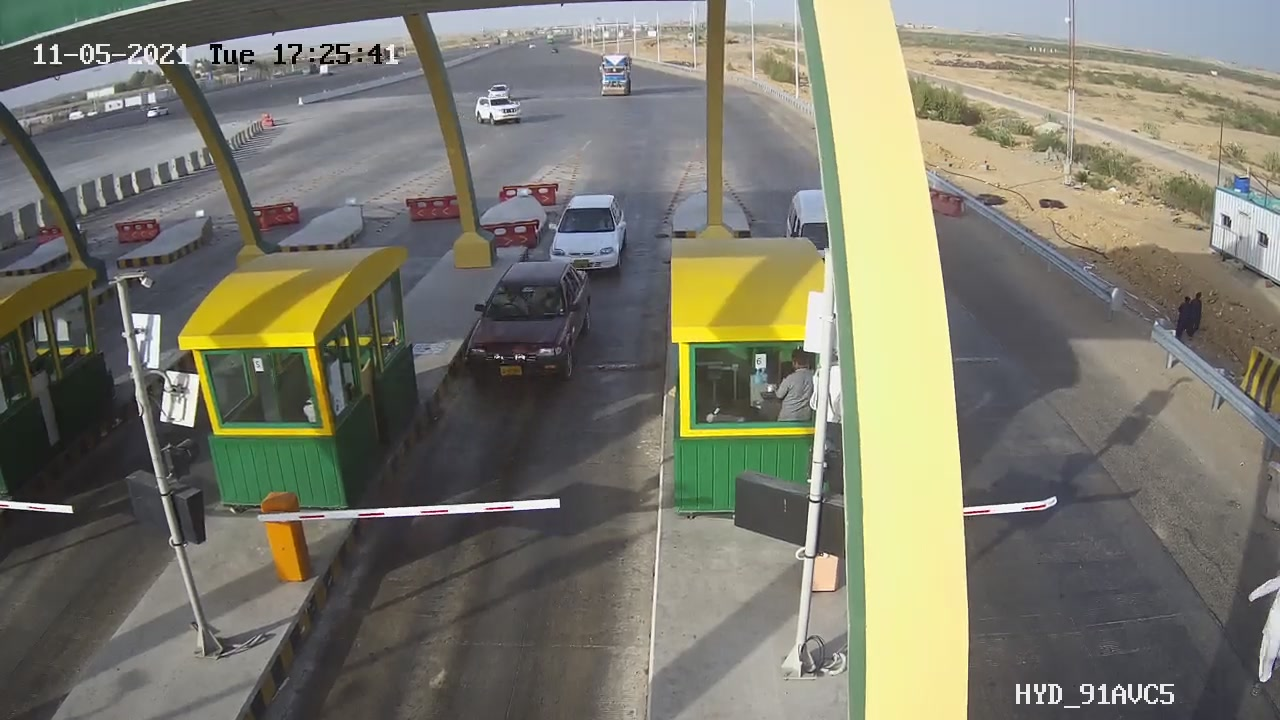F1: (450, 251, 607, 408), (533, 179, 642, 292)
